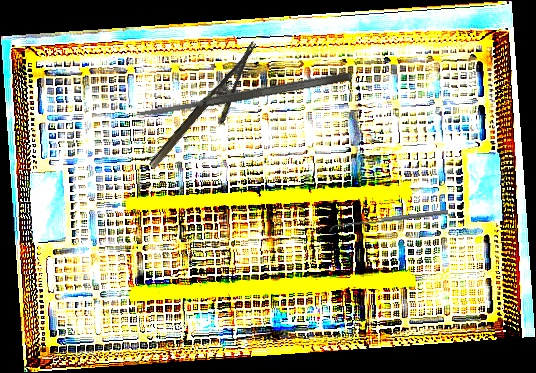Needle Holder: (146, 40, 277, 184)
Spatula Surgical: (135, 70, 354, 120), (327, 209, 450, 234)
